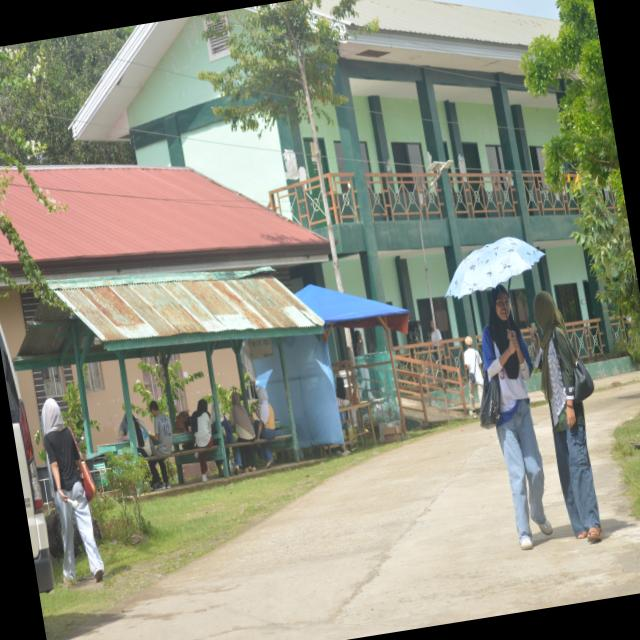person: (483, 285, 552, 550), (532, 292, 601, 541), (42, 399, 104, 582), (464, 336, 483, 415), (149, 401, 173, 455), (230, 393, 255, 442), (255, 387, 276, 440), (191, 399, 213, 448)
